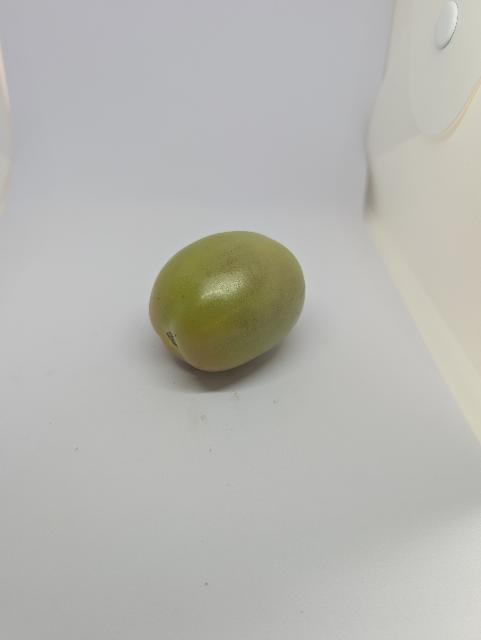green: (143, 221, 313, 378)
